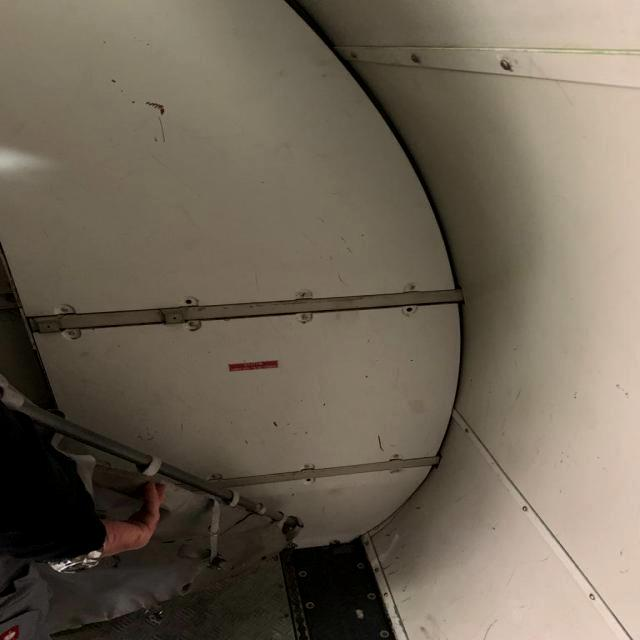Missing Fastener: (180, 296, 200, 308), (402, 304, 418, 316), (302, 476, 318, 484)
